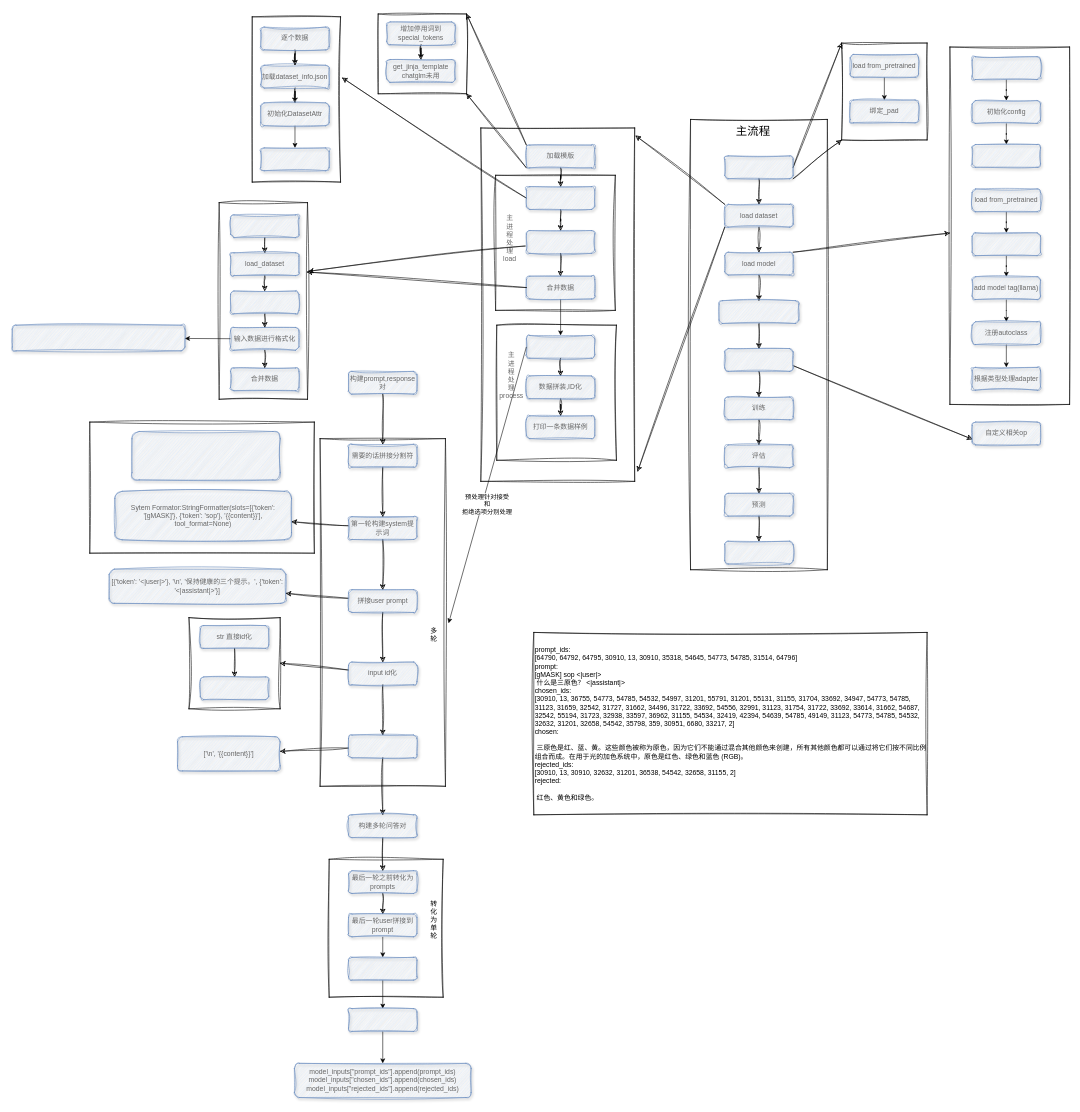
This 1080x1112 diagram has some shape labels left out. Here are the shapes that lost their labels. From the top down, the centre of each, then its label:
pixel 1006 69: 初始化参数
pixel 295 160: 形成DataSetAttrList
pixel 759 168: load tokenizer
pixel 1006 156: patch config (glm无额外设置）
pixel 561 198: 数据列表
pixel 265 227: 形成文件列表
pixel 561 242: 加载数据
pixel 1006 245: patch model
pixel 265 303: 选取样本数量
pixel 759 312: 构建DataCollatorForSeq2Seq
pixel 98 338: {"prompt": [], "response": [], "system": [], "tools": []}
pixel 561 347: 根据stage生成预处理和打印方法
pixel 759 360: 初始化trainer
pixel 206 456: slot格式：{‘token':'aaa',}, 或者是str
pixel 759 553: 保存模型
pixel 235 689: dict取 token字段
pixel 383 747: 构建response 并id化
pixel 383 969: 最后一轮response 作为anser
pixel 383 1020: 接受和拒绝分别添加 eos
